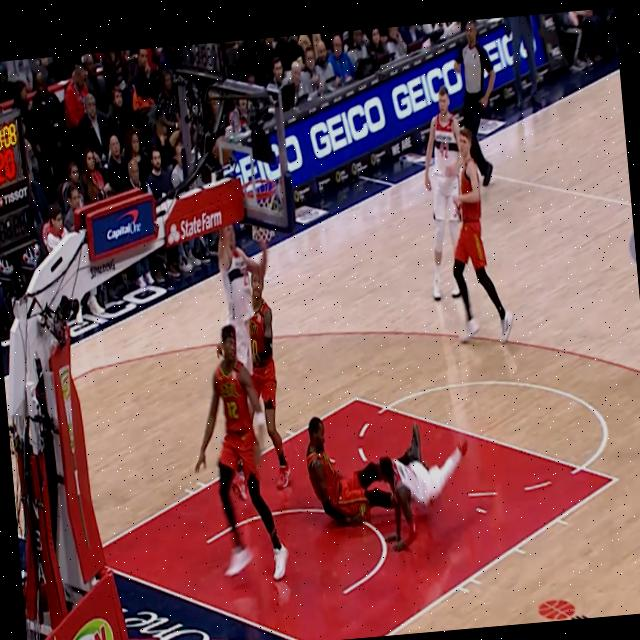foul: (292, 365, 506, 585)
no foul: (190, 230, 296, 580), (398, 78, 526, 363)
